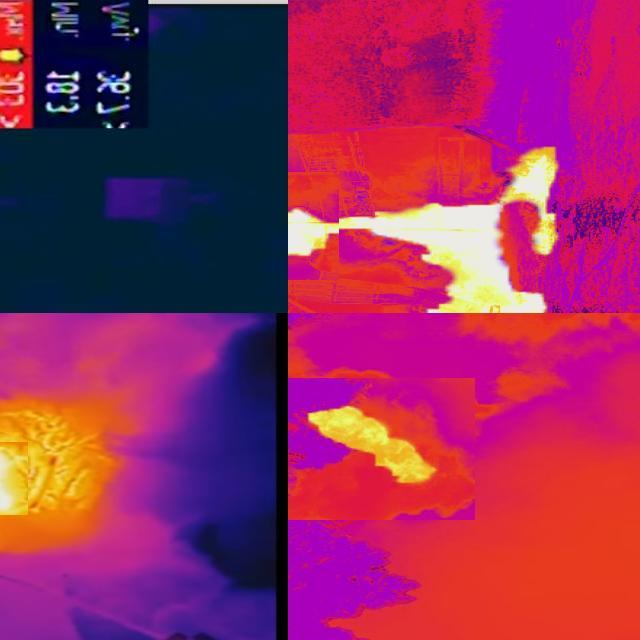fire: (291, 148, 560, 314), (306, 403, 440, 492), (1, 442, 29, 515)
